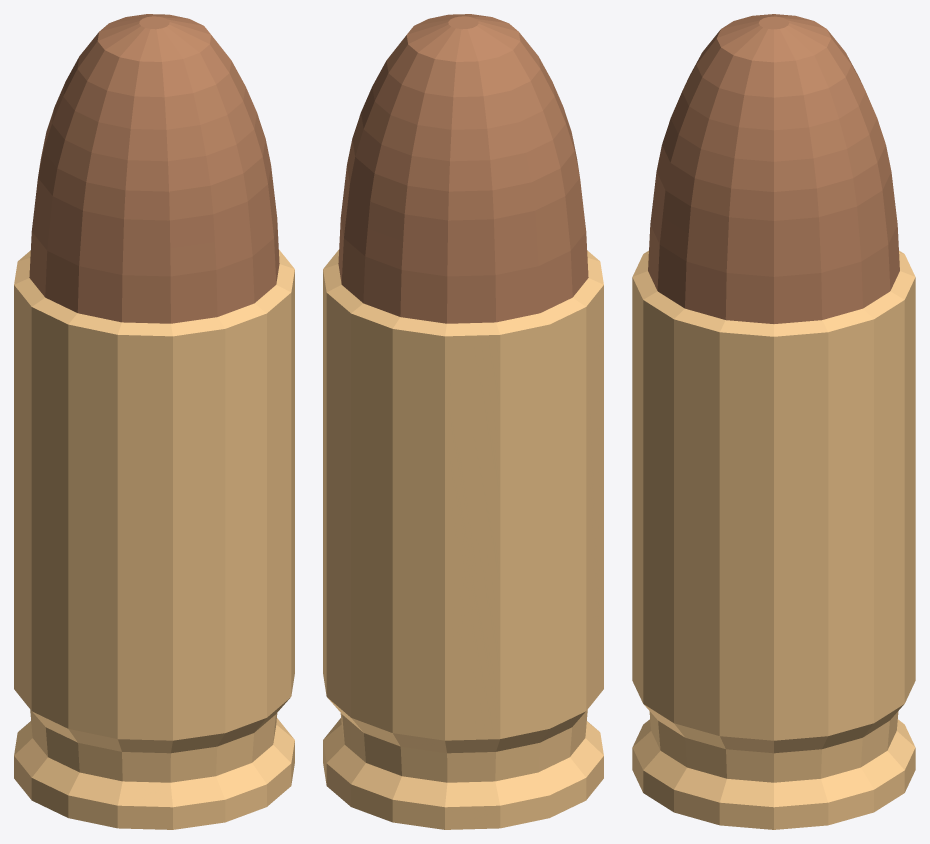
The model's file is bullet.fbx.
3 renders of one model, left to right at view 1: azimuth 30°, elevation 25°; view 2: azimuth 150°, elevation 25°; view 3: azimuth 270°, elevation 25°, orthographic.
Visible parts, largest first — view 1: bullet; view 2: bullet; view 3: bullet.
Part boxes in pixels (<box>): bullet: <box>14,14,294,829</box>; bullet: <box>323,14,603,829</box>; bullet: <box>632,14,915,829</box>.
Size of the model in its own units: 0.8585 by 2.5 by 0.8585.
